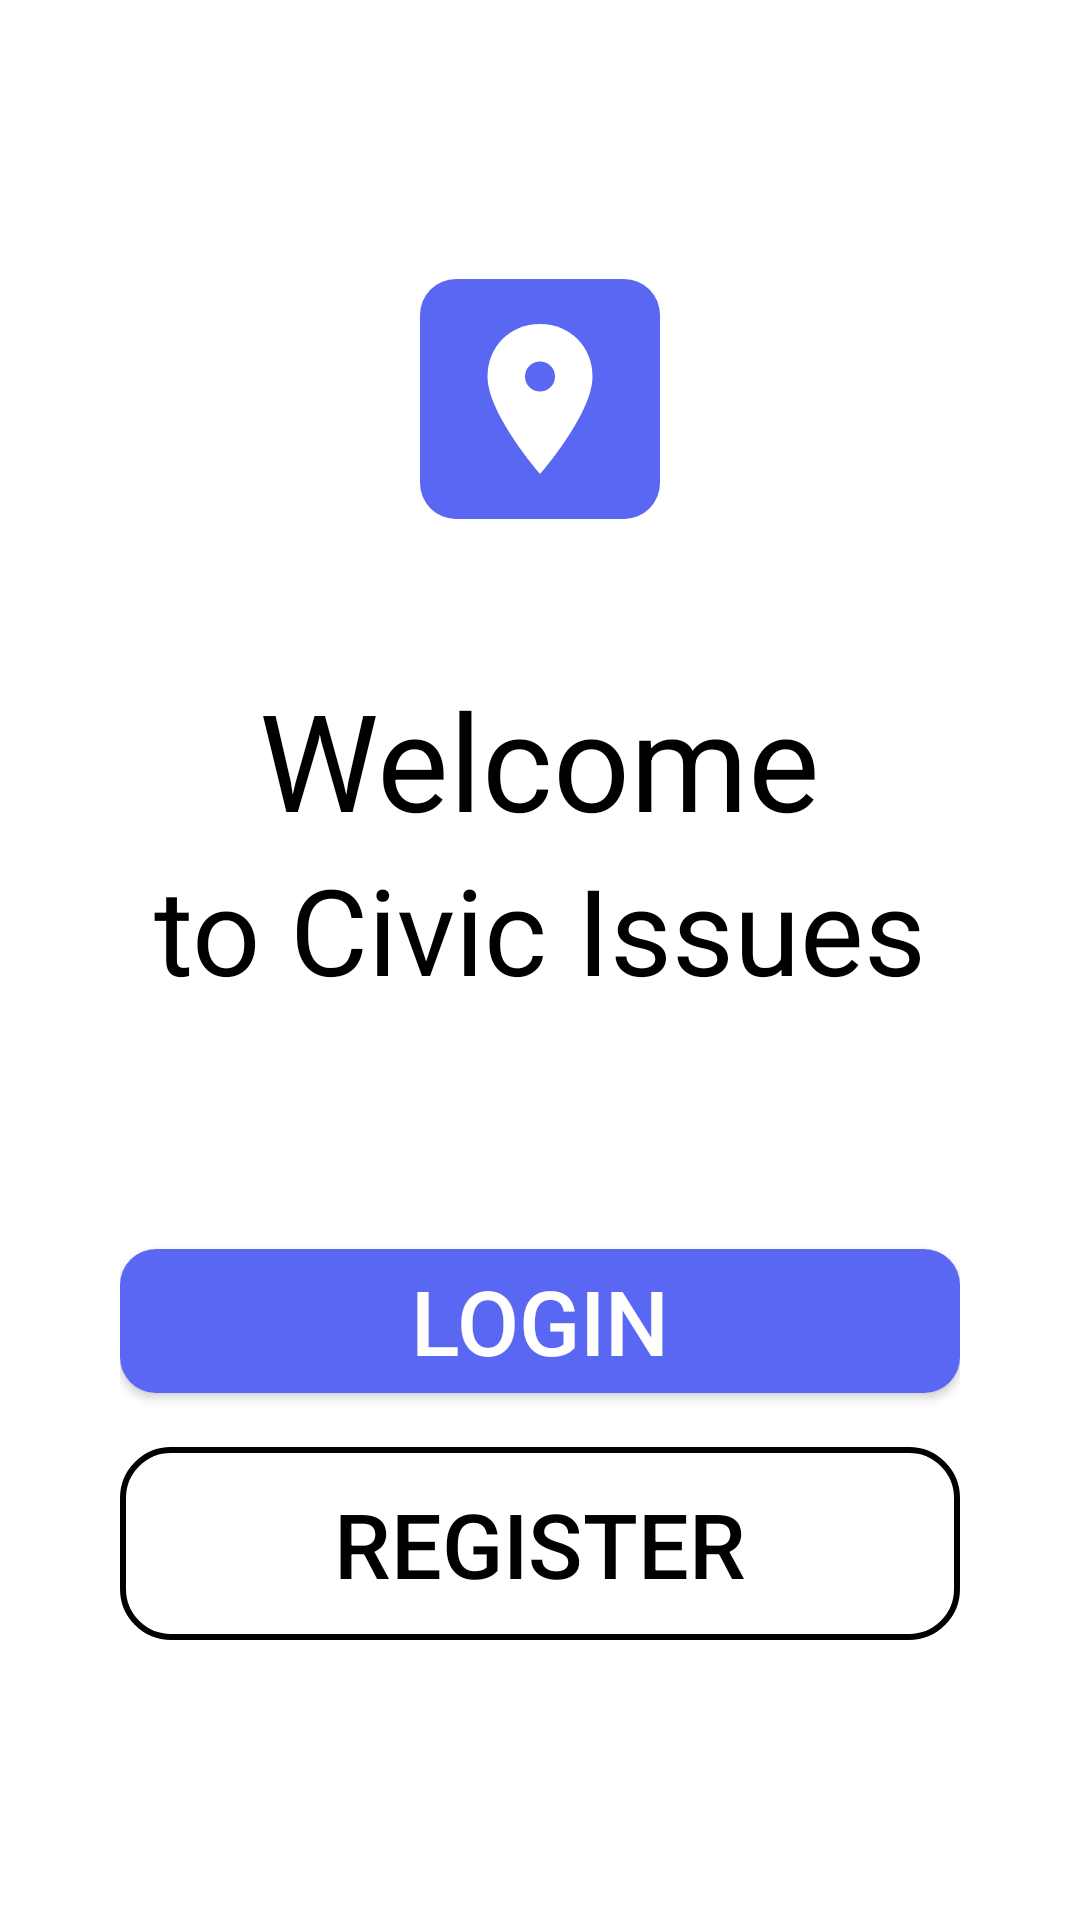

Point at icon controls on the screen. Image size 1080 x 1920, points as point (x, y).
location: point (540, 399)
